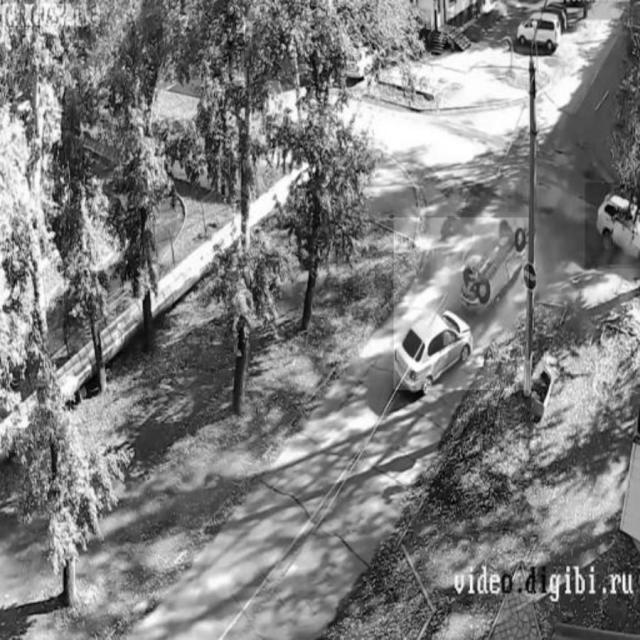accident: (394, 218, 528, 390)
vehicle: (585, 183, 640, 269), (518, 13, 558, 53)
